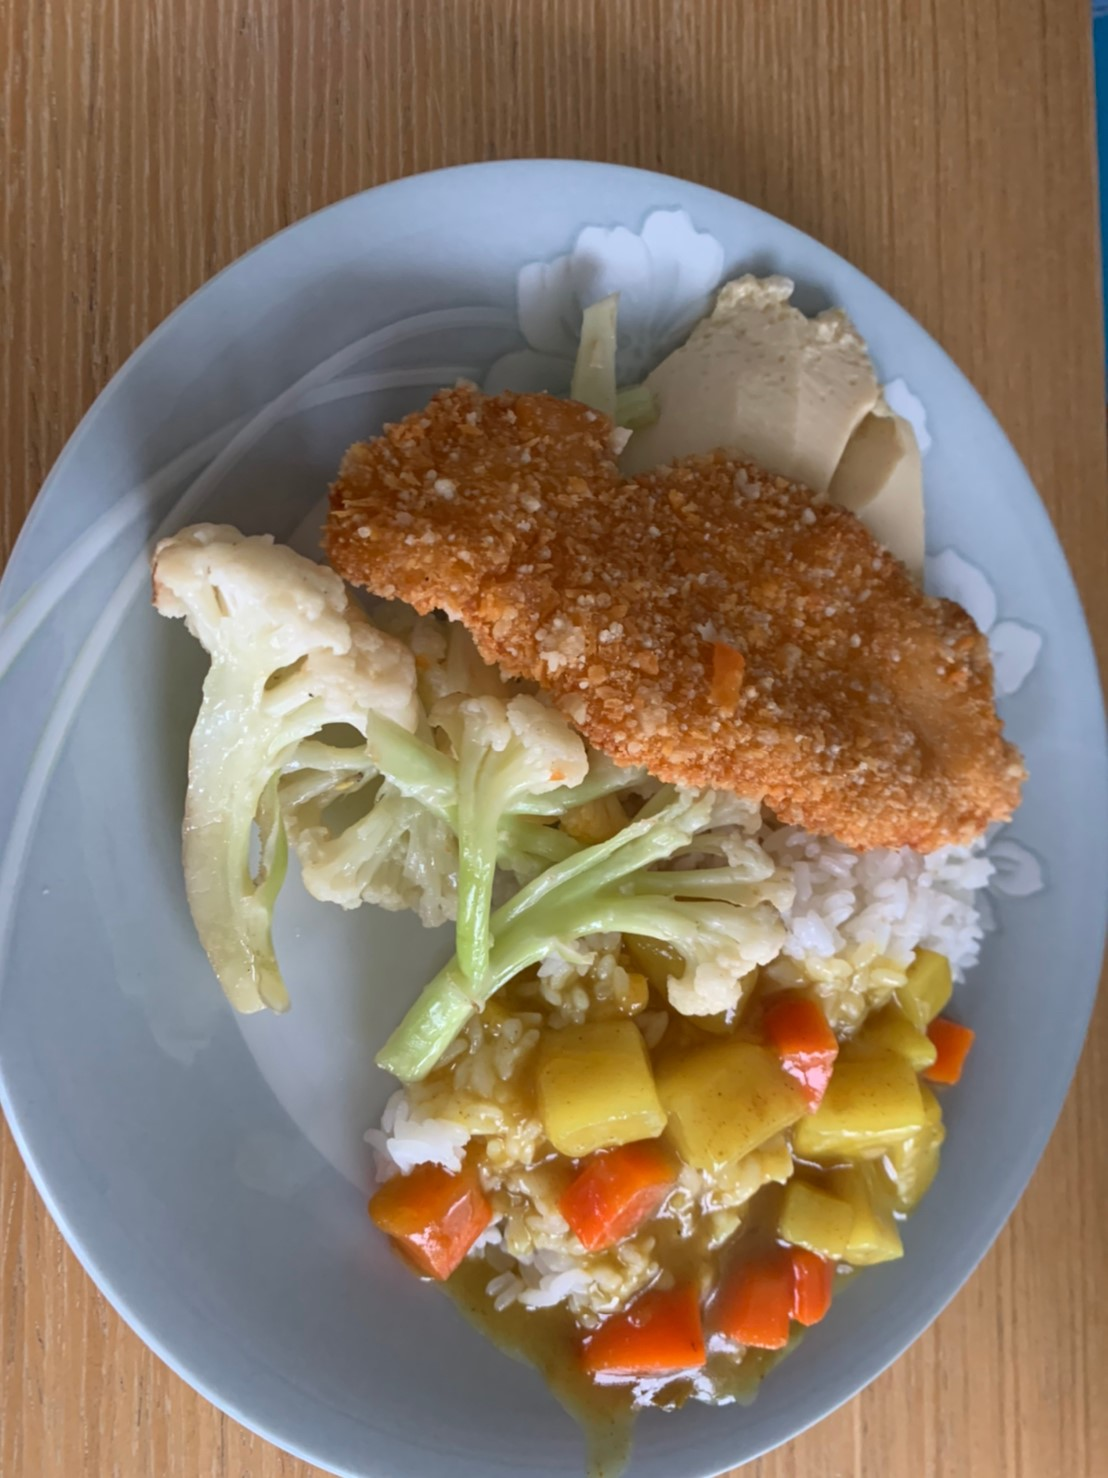curry: (371, 922, 954, 1414)
fried_chicken: (324, 379, 1029, 852)
rice: (777, 833, 1004, 993)
